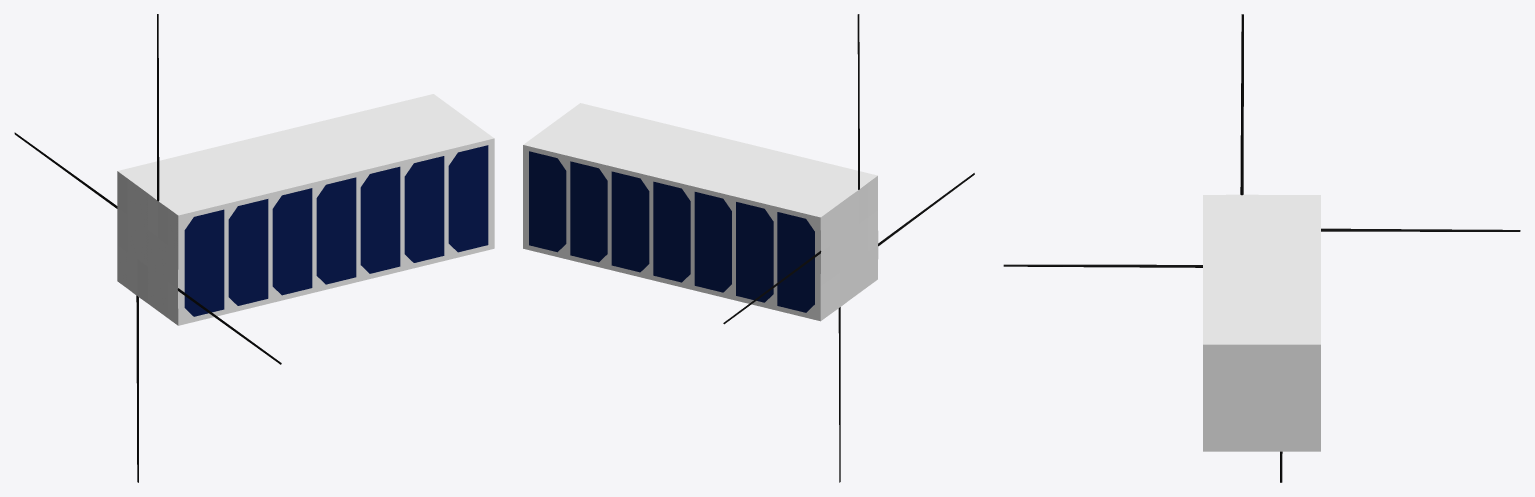
The model's file is cubesat_model.glb.
3 renders of one model, left to right at view 1: azimuth 30°, elevation 25°; view 2: azimuth 150°, elevation 25°; view 3: azimuth 270°, elevation 25°, orthographic. The views are drawn at different scales.
Visible parts, largest first — view 1: Cube.003; view 2: Cube.003; view 3: Cube.003.
Boxes of the visible parts, <box> form: Cube.003: <box>14,14,494,482</box>; Cube.003: <box>523,14,974,482</box>; Cube.003: <box>1003,14,1520,482</box>.
Size of the model in its own units: 6 by 8.76 by 8.76.
